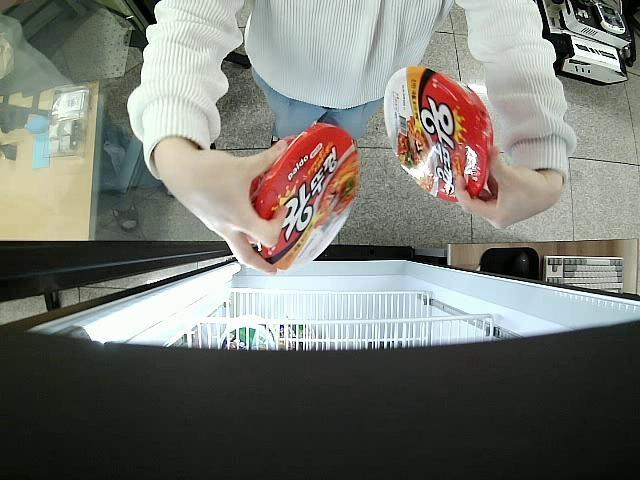10_wangTtukkeong: (253, 124, 360, 275), (383, 66, 492, 202)
